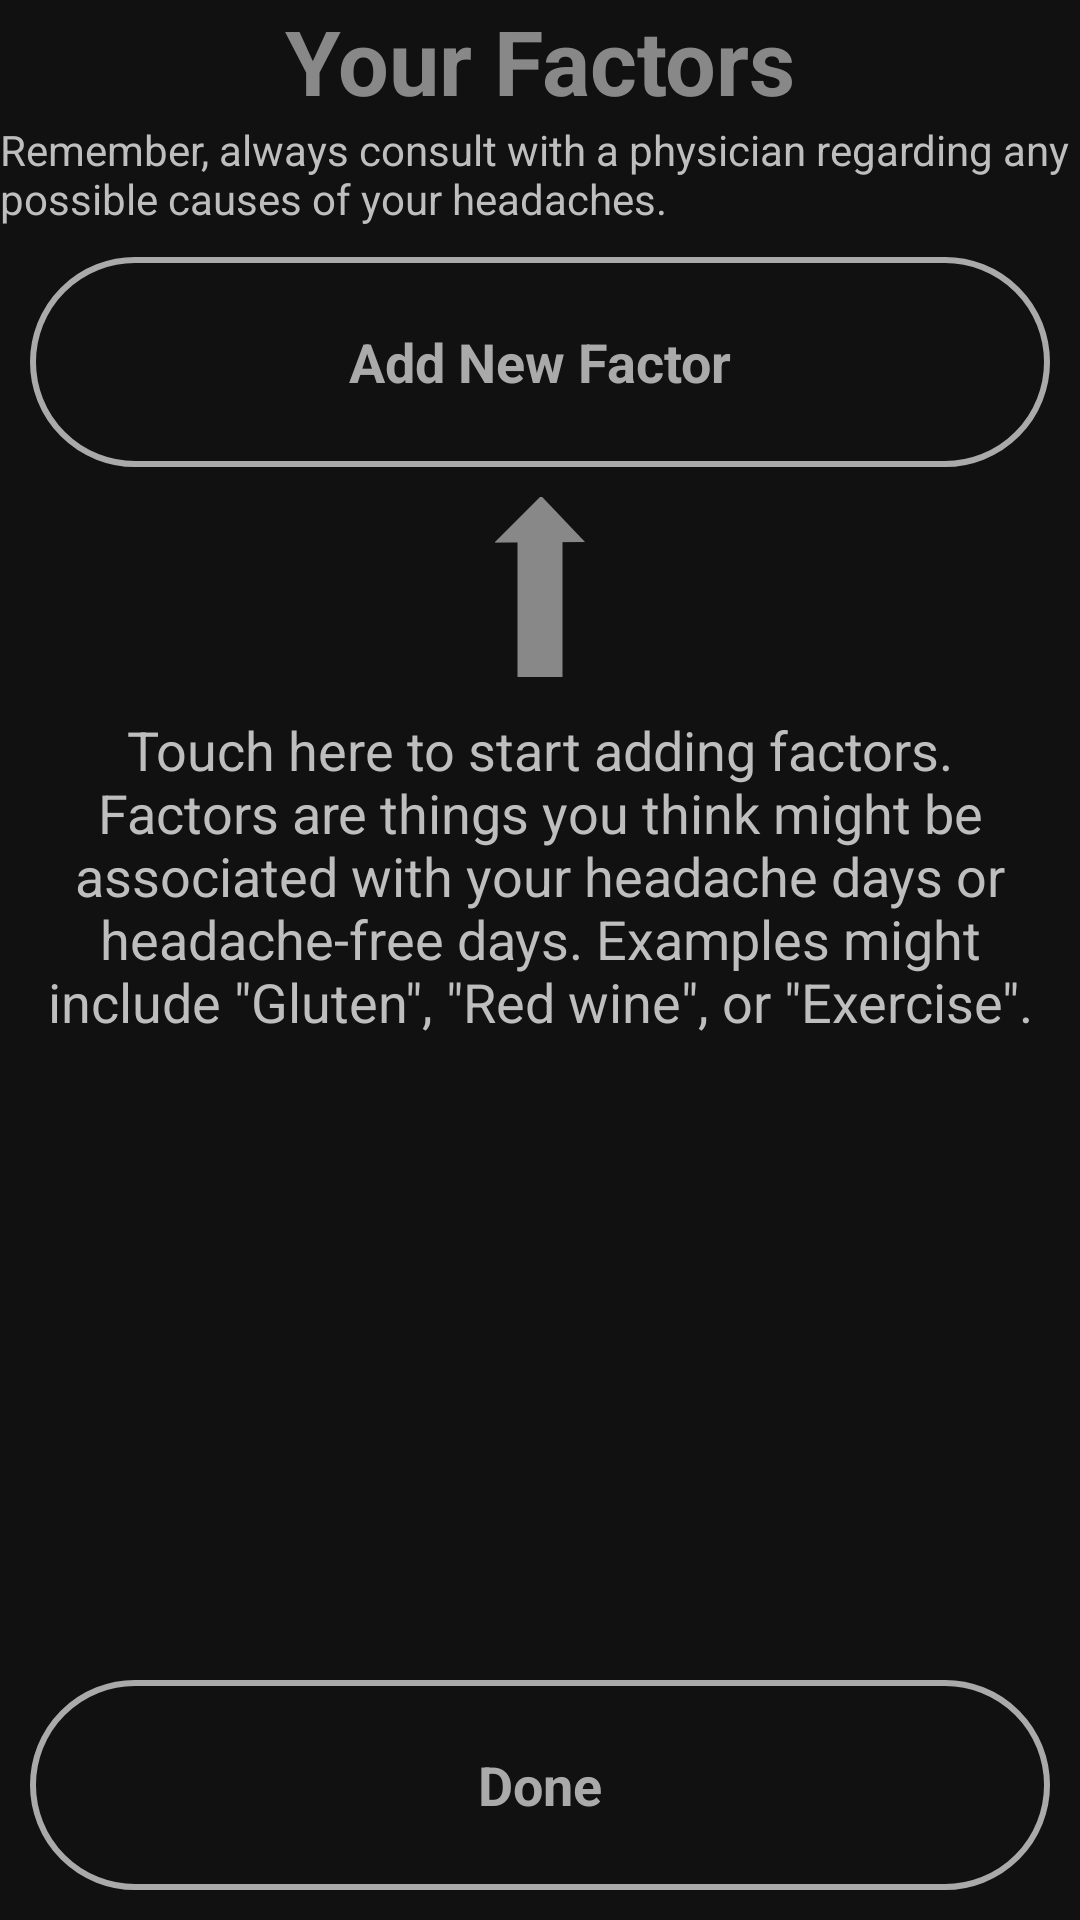

Screen size 1080 x 1920. Icon name, then its box in pixels as (x1, y1, x2, y2):
up arrow: (495, 497, 585, 677)
